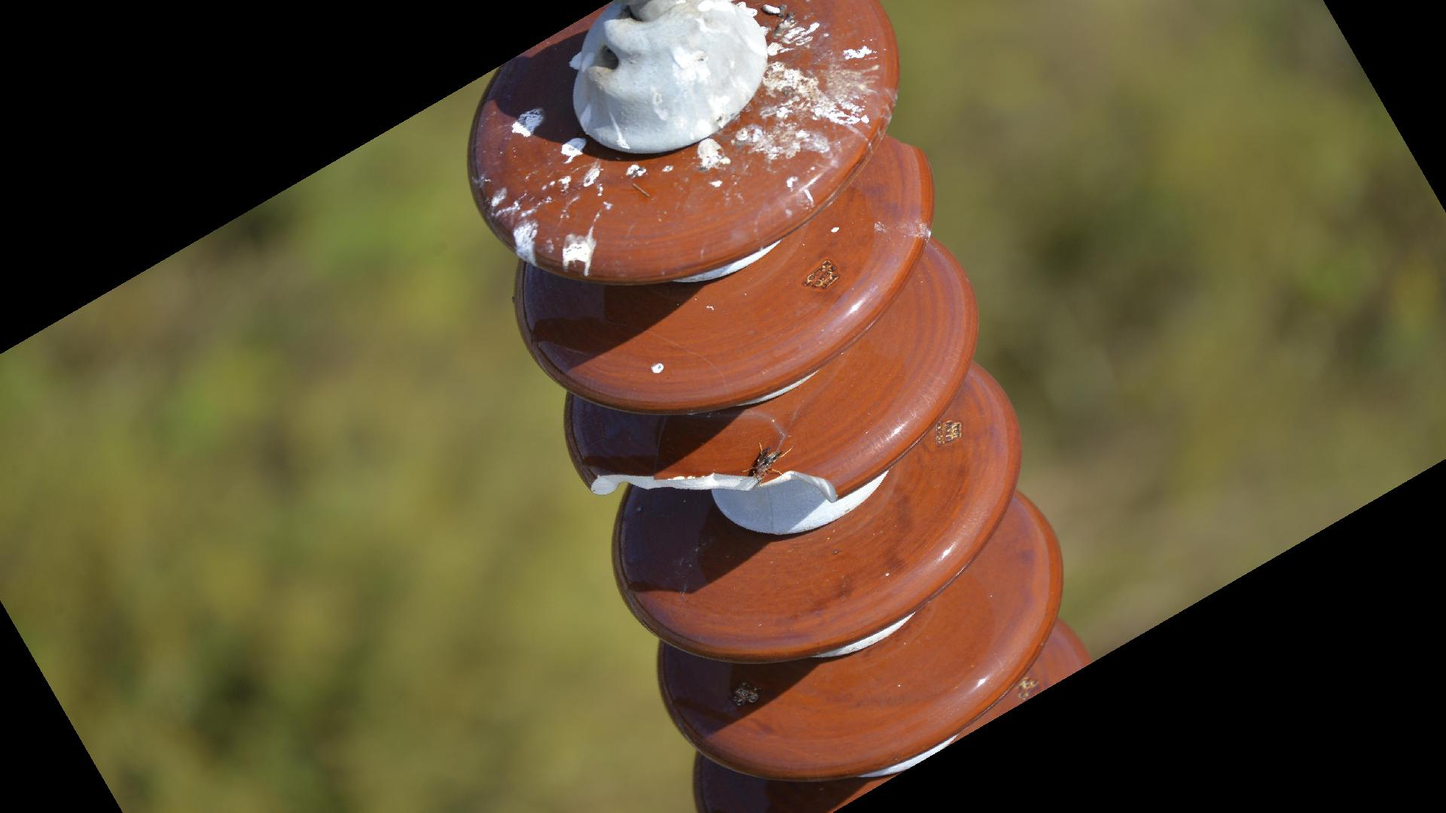insulator: (460, 1, 1103, 813)
insulator_breakage: (581, 460, 848, 510)
